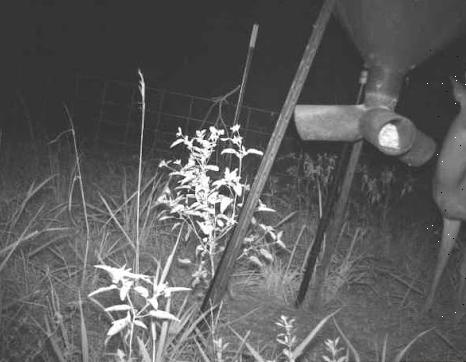Deer: (427, 47, 466, 323)
